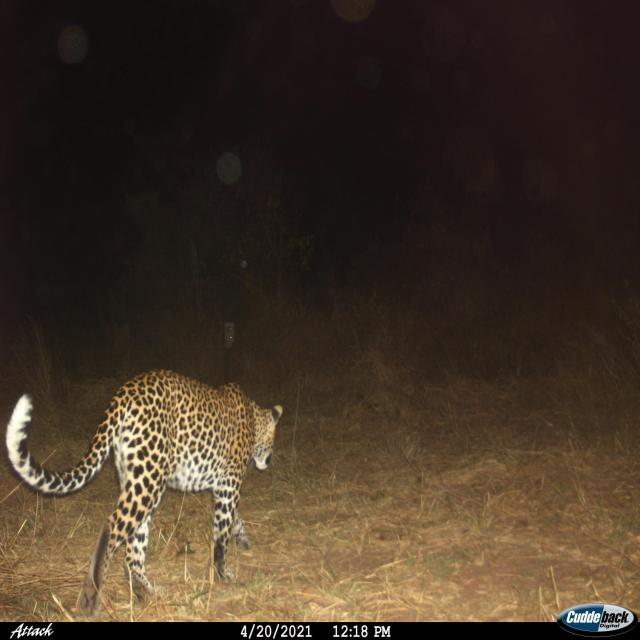Leopard: (5, 377, 277, 609)
